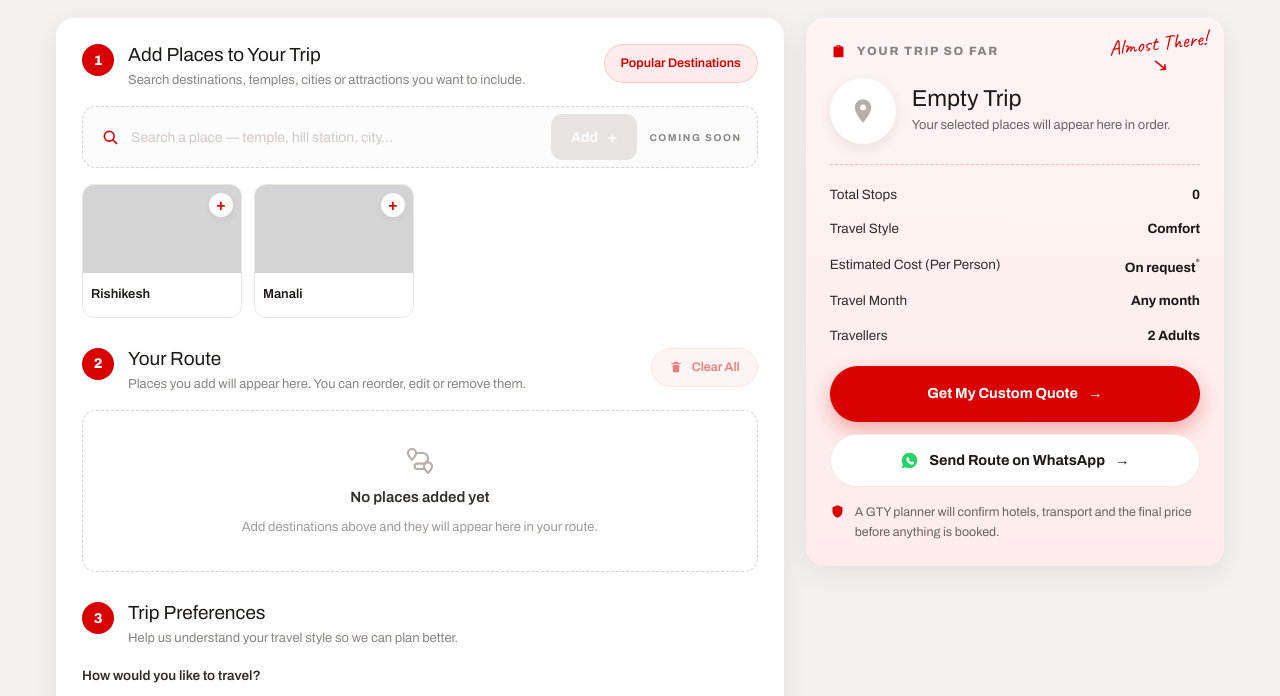
TripBuilder interaction › Clear All empties the route and restores the empty state
Click the button "+ Rishikesh": (162, 251) [82,184,242,318]
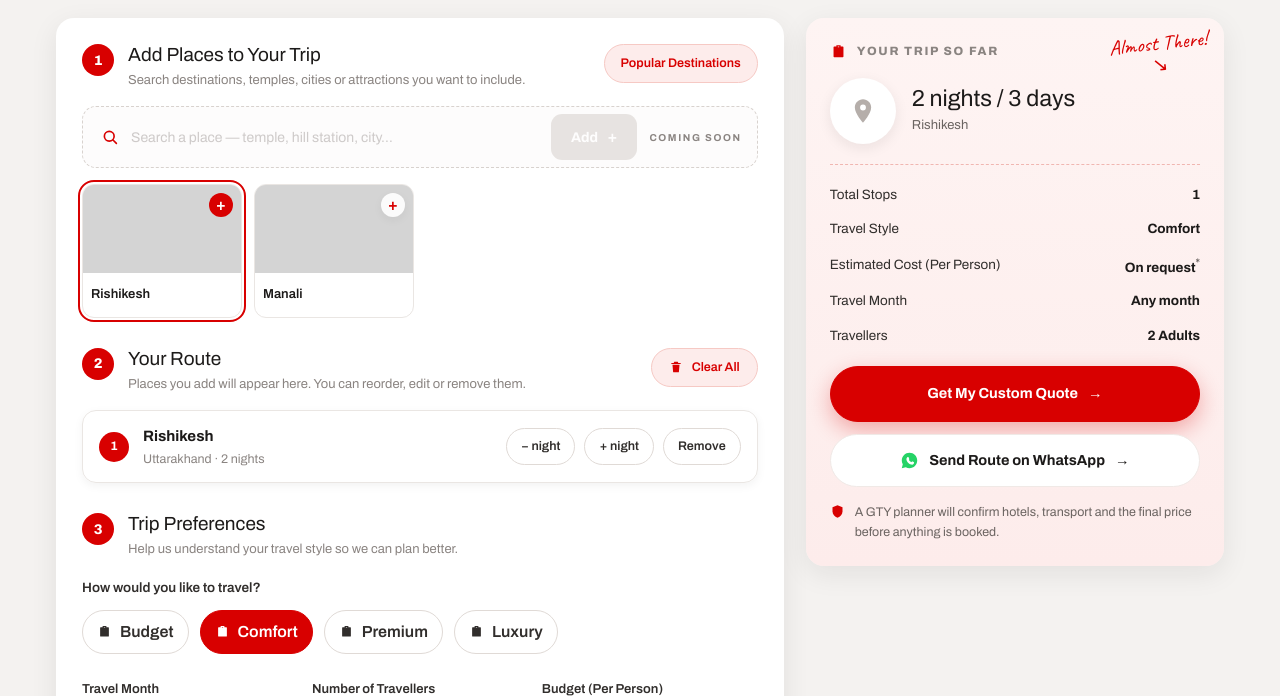
Click the button "+ Manali": (334, 251) [254,184,414,318]
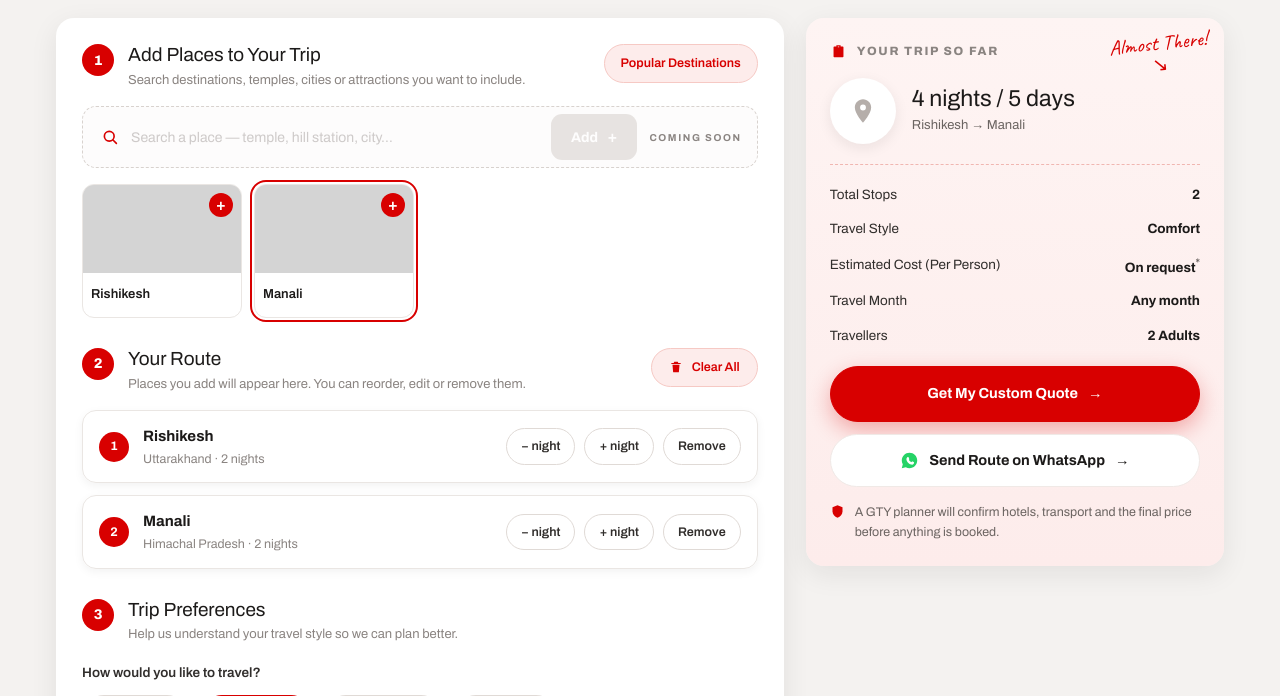
Check: the button "Clear All" is enabled
Click the button "Clear All": (704, 367) [651,348,758,387]
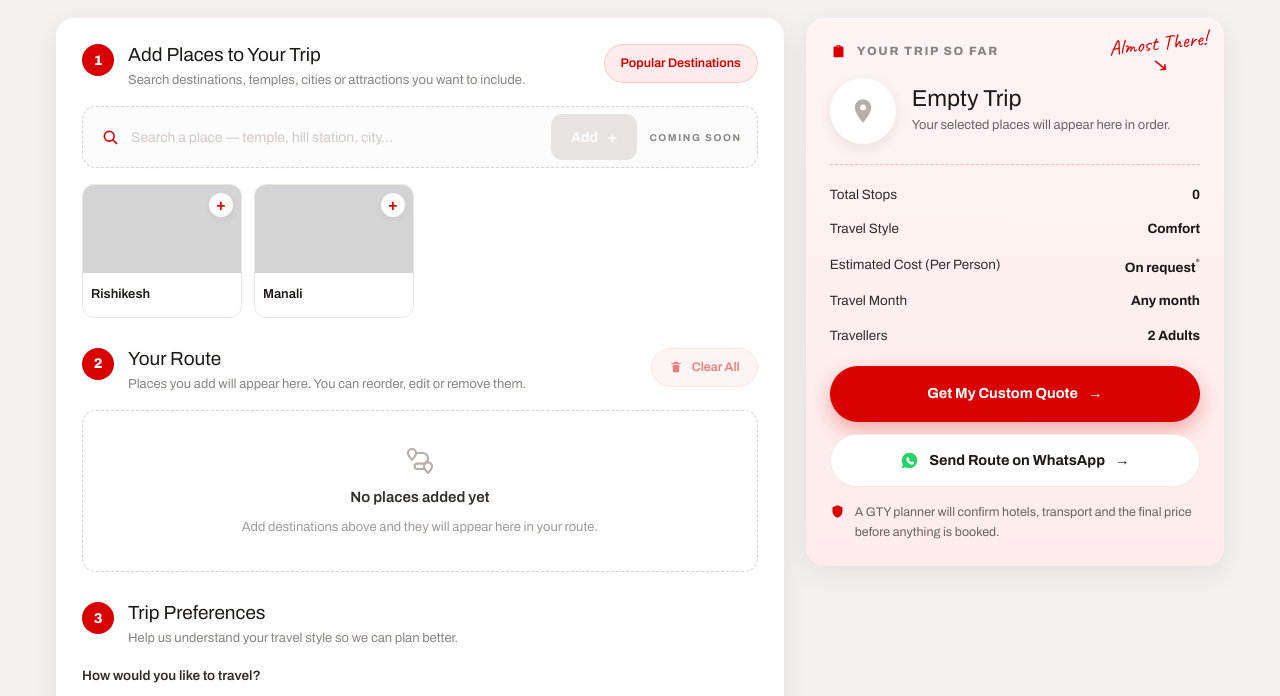
Check: the text "No places added yet" is shown, box [350,486,490,509]
Check: the button "Clear All" is disabled, box [651,348,758,387]
